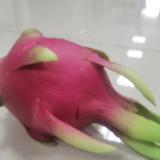pitaya: (1, 28, 160, 160)
